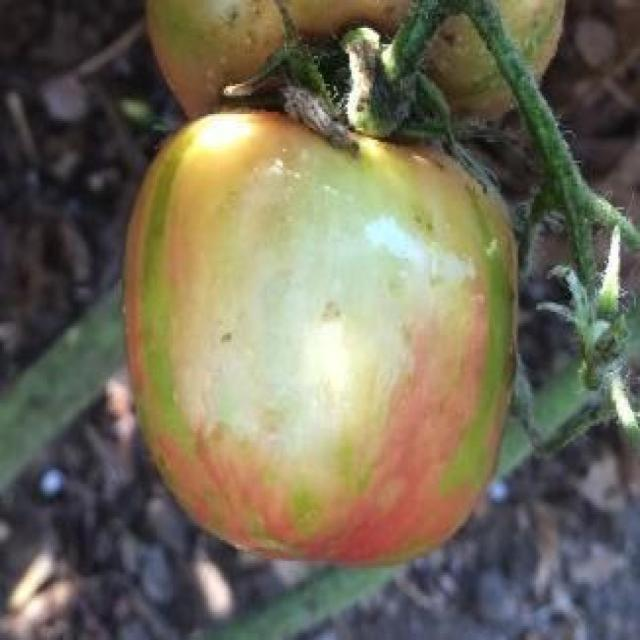Sunscald Fruit: (118, 97, 310, 370)
